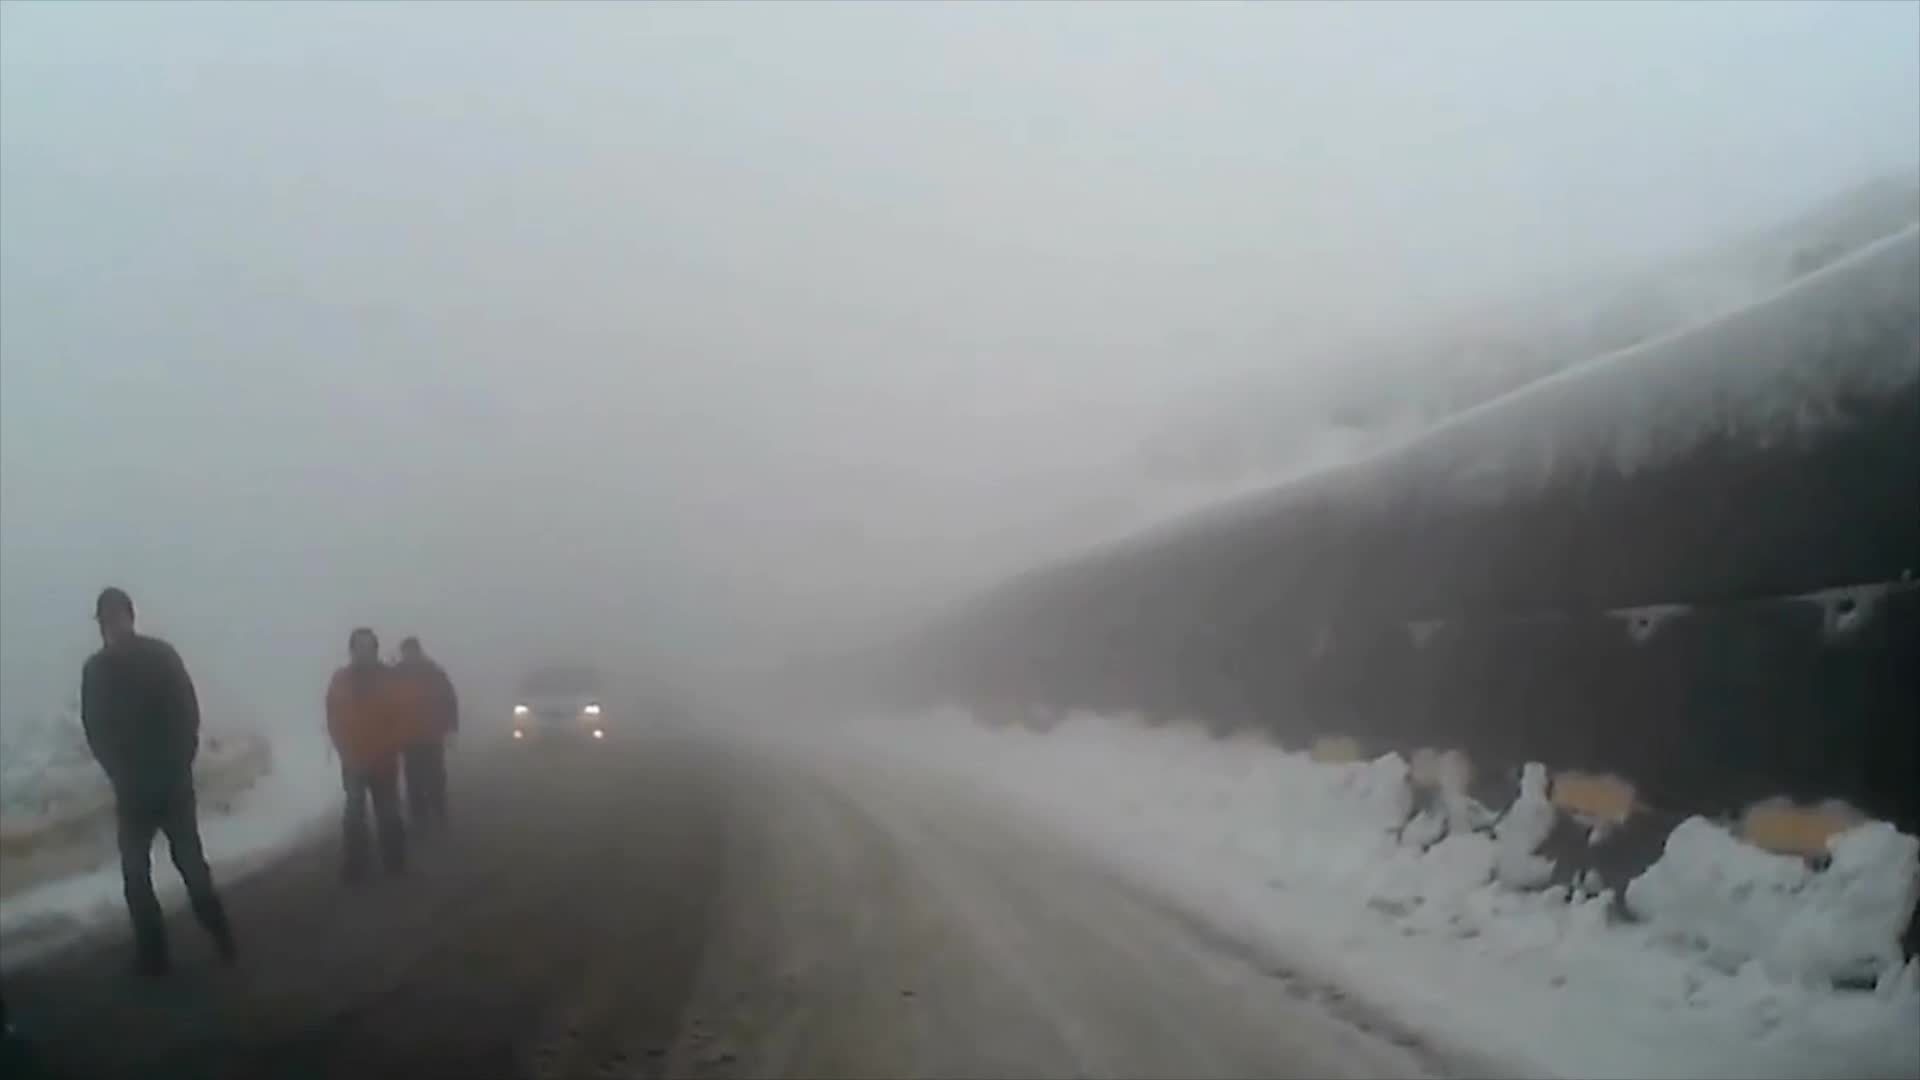pedestrian: (77, 589, 244, 979), (315, 621, 414, 882), (386, 637, 464, 850)
vehicle: (504, 663, 607, 758), (506, 672, 609, 767)
